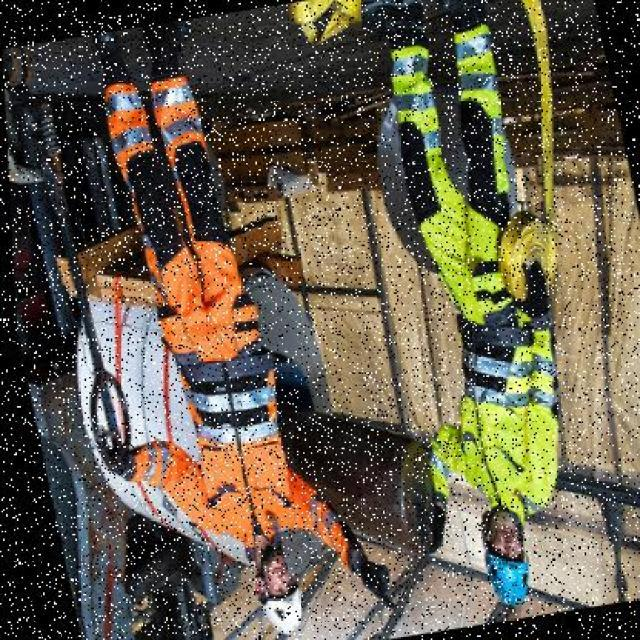helmet: (470, 540, 539, 614), (245, 582, 311, 639)
vest: (129, 319, 332, 576), (403, 261, 583, 533)
